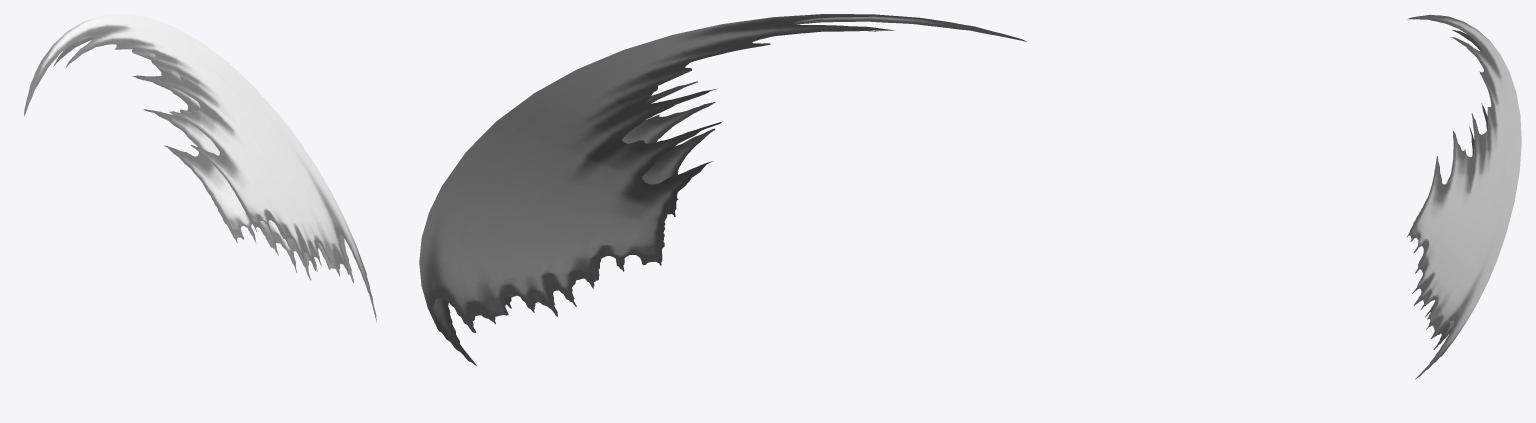
File: fx_cookie1305031_skill01.fbx
The picture shows the model from 3 angles, left to right: view 1: azimuth 30°, elevation 25°; view 2: azimuth 150°, elevation 25°; view 3: azimuth 270°, elevation 25°; orthographic projection. The views are drawn at different scales.
Parts seen in each view (by area): view 1: L_scratch2; view 2: L_scratch2; view 3: L_scratch2.
Boxes of the visible parts, bbox=[...] form: L_scratch2: bbox=[24, 14, 376, 322]; L_scratch2: bbox=[419, 14, 1026, 365]; L_scratch2: bbox=[1406, 14, 1521, 379].
Bounding box in the file's own units: 561 × 469 × 403.
